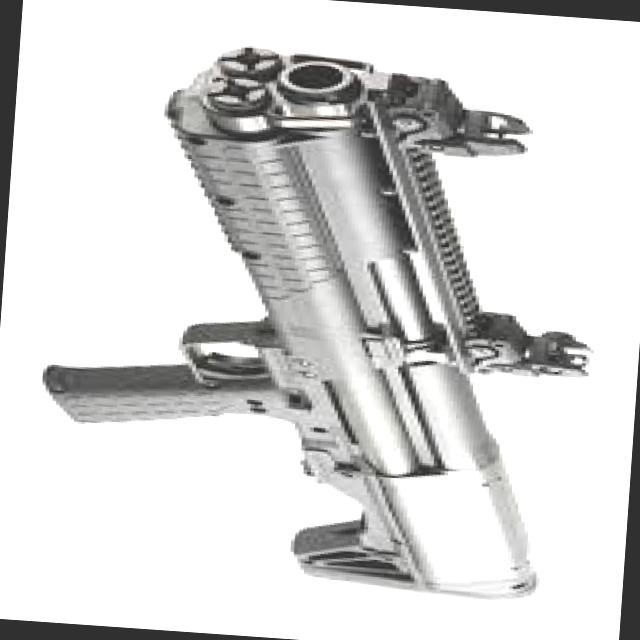long weapon: (1, 8, 620, 614)
